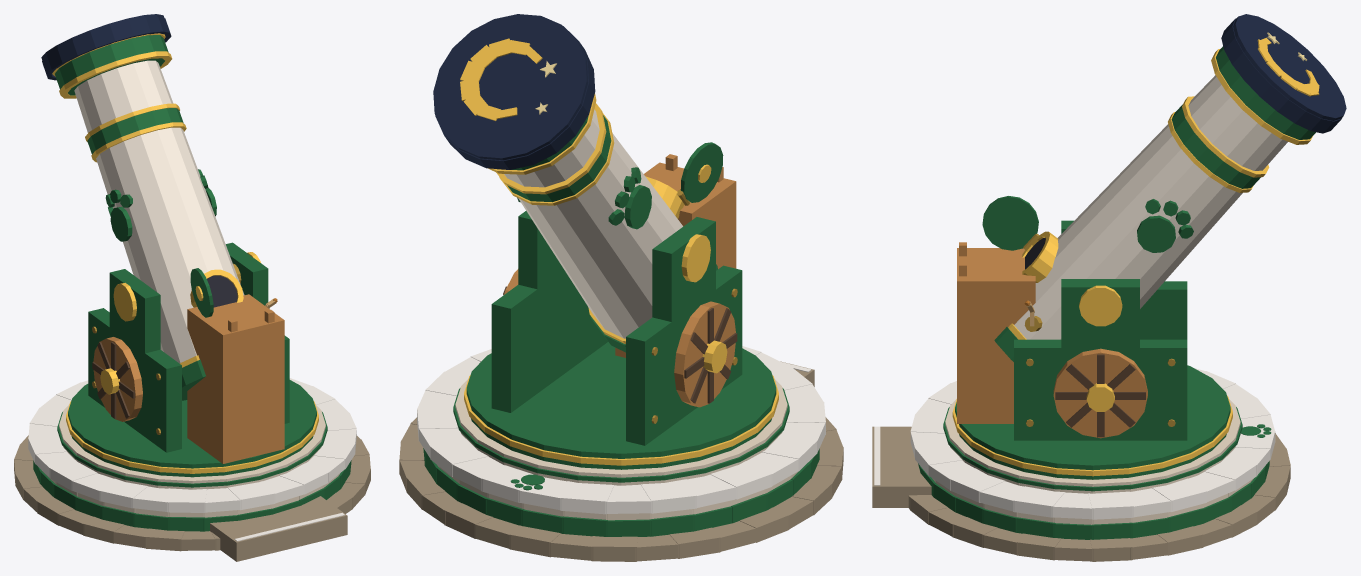
The model's file is CatCafe_Camp_Cannon_Woods.glb.
3 renders of one model, left to right at view 1: azimuth 30°, elevation 25°; view 2: azimuth 150°, elevation 25°; view 3: azimuth 270°, elevation 25°, orthographic. The views are drawn at different scales.
Visible parts, largest first — view 1: CatCafe_Camp_Cannon_Woods_Turret, CatCafe_Camp_Cannon_Woods, CatCafe_Camp_Cannon_Woods_Climb, CatCafe_Camp_Cannon_Woods_MoonCover; view 2: CatCafe_Camp_Cannon_Woods_Turret, CatCafe_Camp_Cannon_Woods, CatCafe_Camp_Cannon_Woods_MoonCover, CatCafe_Camp_Cannon_Woods_Climb; view 3: CatCafe_Camp_Cannon_Woods_Turret, CatCafe_Camp_Cannon_Woods, CatCafe_Camp_Cannon_Woods_Climb, CatCafe_Camp_Cannon_Woods_MoonCover.
Part boxes in pixels (box(x1,y1,x2,y2)): CatCafe_Camp_Cannon_Woods_Turret: box(52, 33, 318, 477); CatCafe_Camp_Cannon_Woods: box(14, 378, 370, 561); CatCafe_Camp_Cannon_Woods_Climb: box(187, 294, 284, 463); CatCafe_Camp_Cannon_Woods_MoonCover: box(41, 14, 171, 80); CatCafe_Camp_Cannon_Woods_Turret: box(464, 94, 778, 469); CatCafe_Camp_Cannon_Woods: box(399, 346, 843, 561); CatCafe_Camp_Cannon_Woods_MoonCover: box(433, 14, 595, 169); CatCafe_Camp_Cannon_Woods_Climb: box(615, 162, 736, 357); CatCafe_Camp_Cannon_Woods_Turret: box(952, 46, 1315, 479); CatCafe_Camp_Cannon_Woods: box(872, 368, 1290, 561); CatCafe_Camp_Cannon_Woods_Climb: box(957, 248, 1035, 423); CatCafe_Camp_Cannon_Woods_MoonCover: box(1221, 14, 1346, 133).
Bounding box in the file's own units: 7.54 × 9.55 × 9.03.
Materials: 1 (1 with a texture image).
